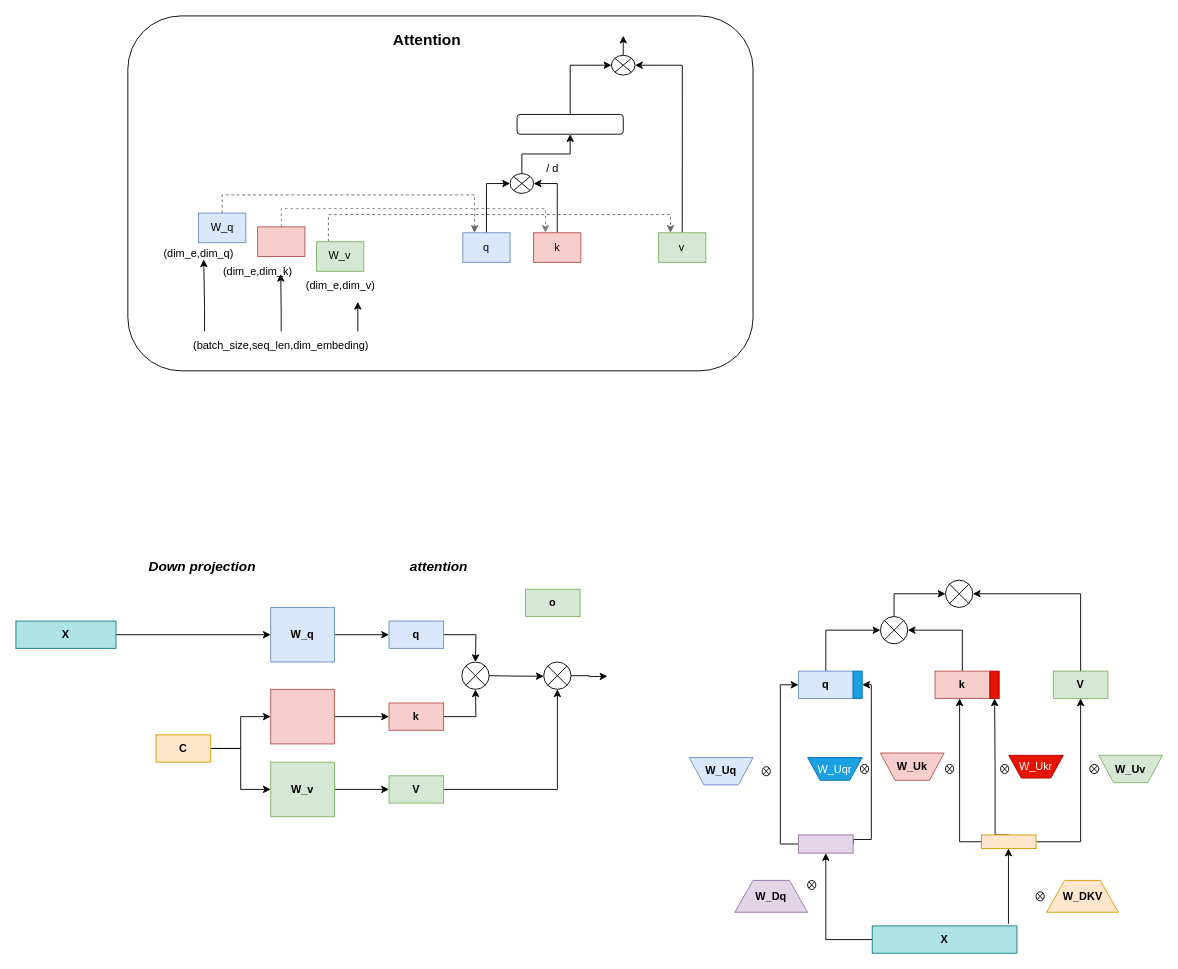
The diagram is 1178 pixels wide and 969 high, and some of its shapes have lost their labels. Here are the shapes that lost their labels. From the top down, the centre of each, then its label:
pixel 569 124: softmax
pixel 281 241: W_k
pixel 302 716: WU_k
pixel 825 843: C_q
pixel 1008 841: C_KV
